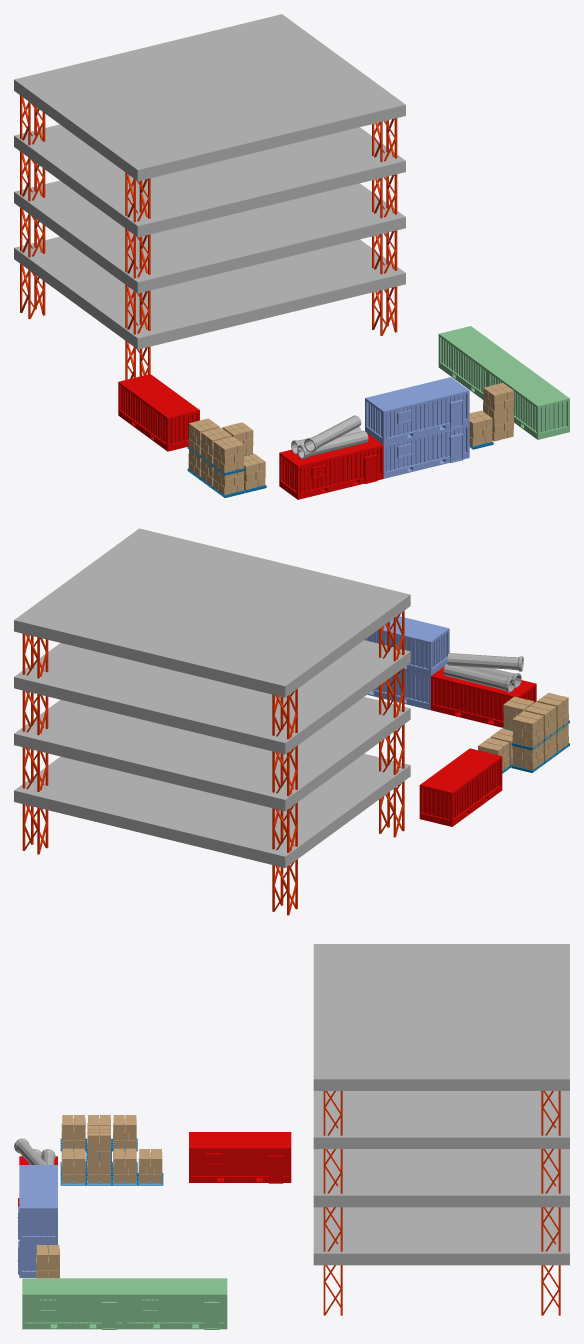
The model's file is Stage 1.fbx.
The picture shows the model from 3 angles, top to bottom: view 1: azimuth 30°, elevation 25°; view 2: azimuth 150°, elevation 25°; view 3: azimuth 270°, elevation 25°; orthographic projection. The views are drawn at different scales.
Parts seen in each view (by area): view 1: Building__3_, Building, Building__1_, Building__2_, Container__2_, Container, Container__7_, Container__3_, Container__5_, Container__1_, Box_3_3__11_, Box_3_3__2_ (+16 smaller); view 2: Building__3_, Building, Building__1_, Building__2_, Container__7_, Container, Container__2_, Container__1_, Box_3_3__15_, ConcretePipe__2_, ConcretePipe__1_, Rift_Pipe__2_ (+16 smaller); view 3: Building__3_, Building__1_, Building, Building__2_, Container__5_, Container__3_, Container__7_, Container__2_, Box_3_3__8_, Box_3_3__13_, Box_3_3__12_, Box_3_3__11_ (+7 smaller).
Part boxes in pixels (left/top/right/bottom): Building__3_: left=14, top=14, right=405, bottom=181; Building: left=14, top=236, right=405, bottom=349; Building__1_: left=14, top=180, right=405, bottom=293; Building__2_: left=14, top=124, right=405, bottom=237; Container__2_: left=365, top=377, right=469, bottom=444; Container: left=279, top=433, right=383, bottom=499; Container__7_: left=118, top=374, right=199, bottom=451; Container__3_: left=488, top=362, right=569, bottom=439; Container__5_: left=438, top=326, right=519, bottom=399; Container__1_: left=383, top=424, right=469, bottom=478; Box_3_3__11_: left=212, top=436, right=245, bottom=475; Box_3_3__2_: left=483, top=383, right=513, bottom=418; Building__3_: left=14, top=528, right=410, bottom=697; Building: left=14, top=753, right=410, bottom=867; Building__1_: left=14, top=697, right=410, bottom=811; Building__2_: left=14, top=640, right=410, bottom=754; Container__7_: left=419, top=748, right=502, bottom=826; Container: left=431, top=666, right=536, bottom=727; Container__2_: left=365, top=615, right=449, bottom=676; Container__1_: left=367, top=669, right=430, bottom=710; Box_3_3__15_: left=511, top=711, right=544, bottom=750; ConcretePipe__2_: left=447, top=653, right=523, bottom=671; ConcretePipe__1_: left=443, top=664, right=515, bottom=692; Rift_Pipe__2_: left=272, top=859, right=297, bottom=915; Building__3_: left=313, top=944, right=569, bottom=1090; Building__1_: left=313, top=1149, right=569, bottom=1207; Building: left=313, top=1207, right=569, bottom=1265; Building__2_: left=313, top=1091, right=569, bottom=1148; Container__5_: left=124, top=1278, right=227, bottom=1329; Container__3_: left=22, top=1278, right=124, bottom=1329; Container__7_: left=189, top=1132, right=291, bottom=1183; Container__2_: left=18, top=1165, right=57, bottom=1242; Box_3_3__8_: left=60, top=1149, right=86, bottom=1185; Box_3_3__13_: left=137, top=1149, right=163, bottom=1185; Box_3_3__12_: left=112, top=1149, right=137, bottom=1185; Box_3_3__11_: left=60, top=1115, right=86, bottom=1151.
Bounding box in the file's own units: 3058 × 2050 × 4338.
8 materials, 4 textured.
